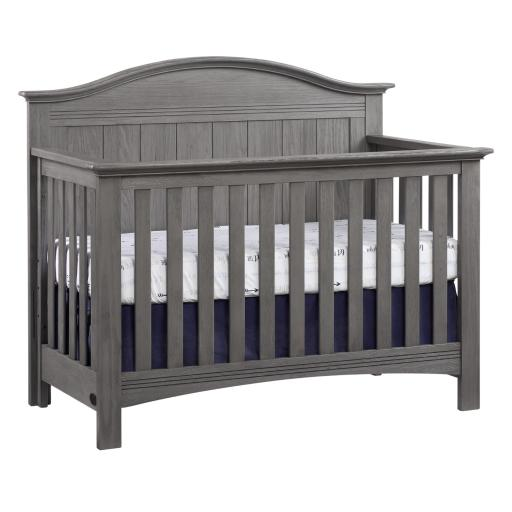crib: (21, 58, 492, 448)
